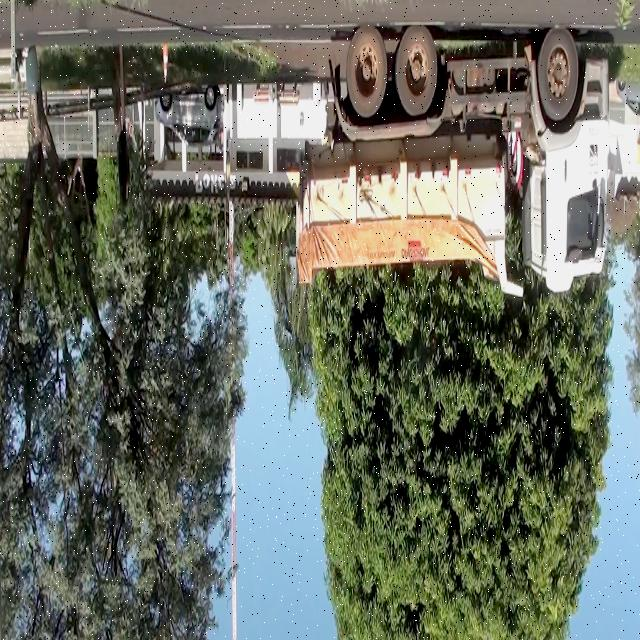-axle: (536, 25, 580, 121), (395, 27, 439, 114), (347, 26, 388, 118)
